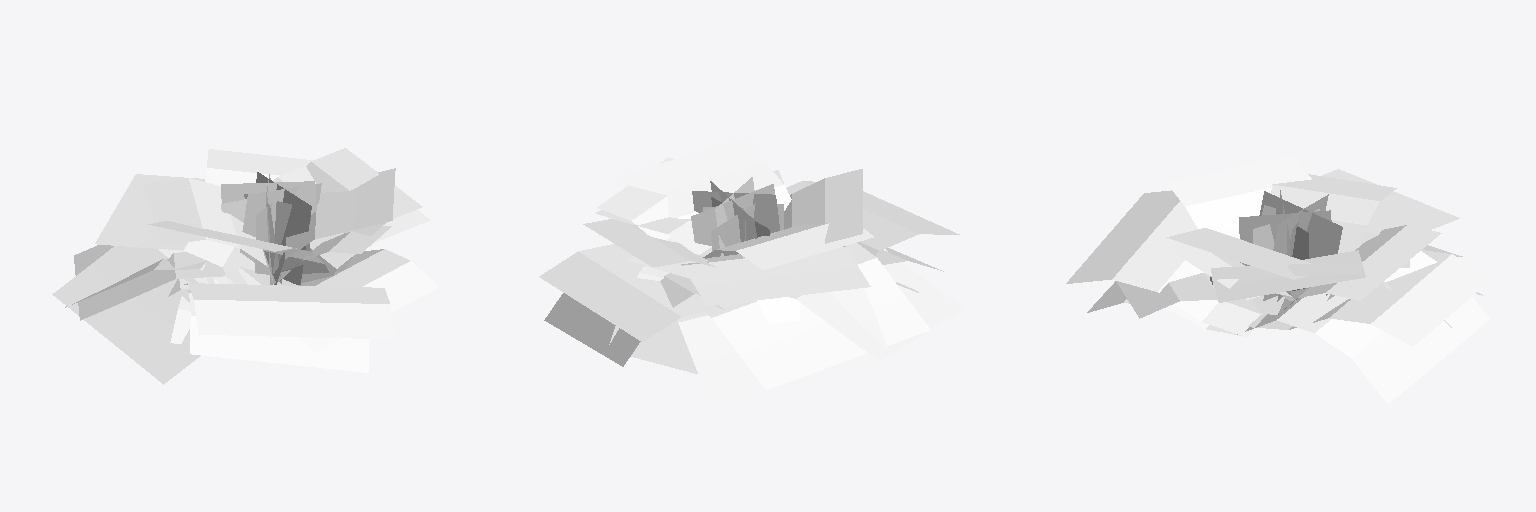
Rendered from heather.obj.
3 views of the same model, side by side, from view 1: azimuth 30°, elevation 25°; view 2: azimuth 150°, elevation 25°; view 3: azimuth 270°, elevation 25° (orthographic).
Parts seen in each view (by area): view 1: Plant1; view 2: Plant1; view 3: Plant1.
Boxes of the visible parts, <box> form: Plant1: <box>52,148,438,384</box>; Plant1: <box>539,137,963,402</box>; Plant1: <box>1066,155,1493,404</box>.
Bounding box in the file's own units: 265 × 98.9 × 291.